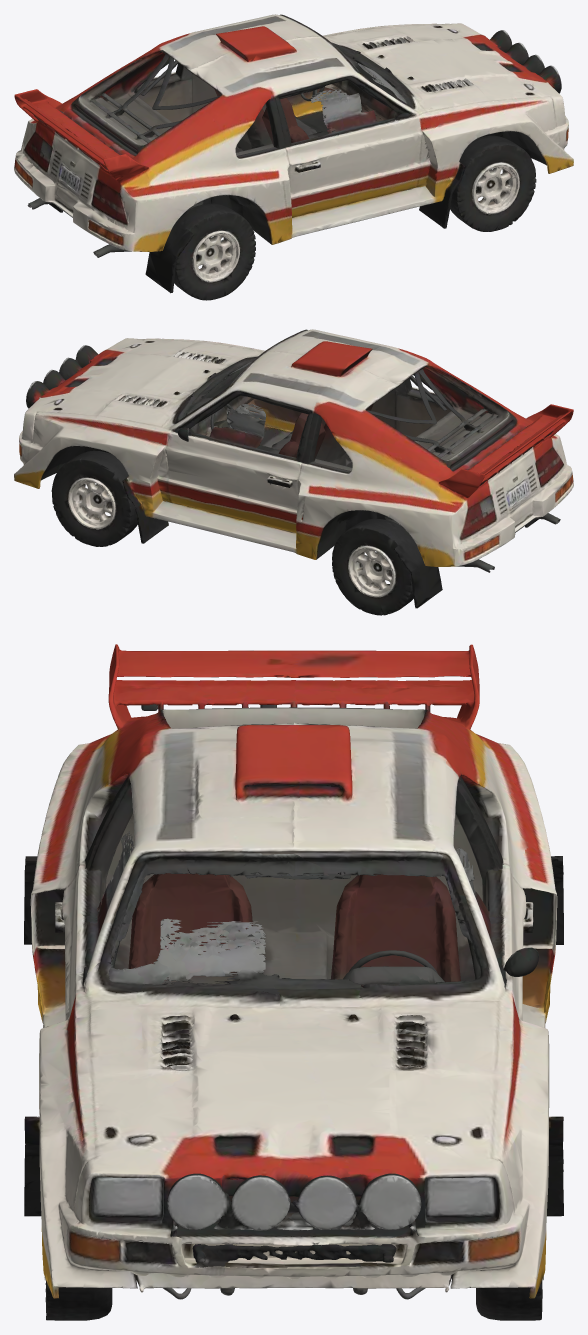
Rendered from 28cea82d-c1b5-45fd-b6b1-5c705ba35260.glb.
3 views of the same model, one above another, from view 1: azimuth 30°, elevation 25°; view 2: azimuth 150°, elevation 25°; view 3: azimuth 270°, elevation 25° (orthographic). The views are drawn at different scales.
Parts seen in each view (by area): view 1: tripo_node_28cea82d-c1b5-45fd-b6b1-5c705ba35260; view 2: tripo_node_28cea82d-c1b5-45fd-b6b1-5c705ba35260; view 3: tripo_node_28cea82d-c1b5-45fd-b6b1-5c705ba35260.
Boxes of the visible parts, x1=… form: tripo_node_28cea82d-c1b5-45fd-b6b1-5c705ba35260: x1=14, y1=14, x2=573, y2=300; tripo_node_28cea82d-c1b5-45fd-b6b1-5c705ba35260: x1=14, y1=329, x2=573, y2=615; tripo_node_28cea82d-c1b5-45fd-b6b1-5c705ba35260: x1=24, y1=644, x2=563, y2=1320.
Bounding box in the file's own units: 1 × 0.3911 × 0.4961.
1 material, 1 textured.
